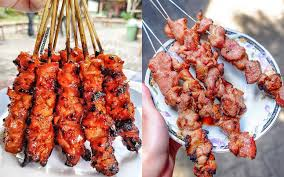sate: (150, 7, 282, 177), (4, 39, 142, 177)
